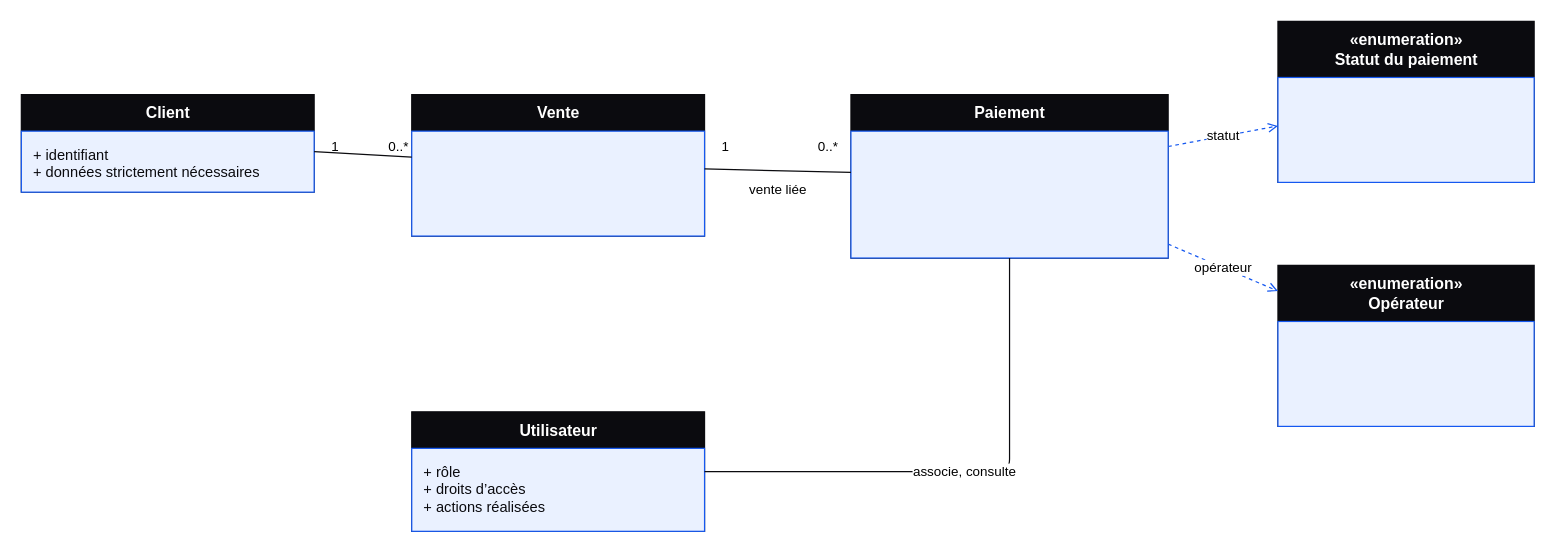
The diagram is 1556 pixels wide and 556 high, and some of its shapes have lost their labels. The shapes that lost their labels are listed below. From the top down, each one's centre as x and y in pixels, then its label:
pixel 1405 129: en attente réussi échoué annulé
pixel 558 183: + référence + montant + date + statut
pixel 1009 194: + vente liée + opérateur + montant + statut + référence externe
pixel 1405 373: Orange Money MTN MoMo Wave Moov Money
